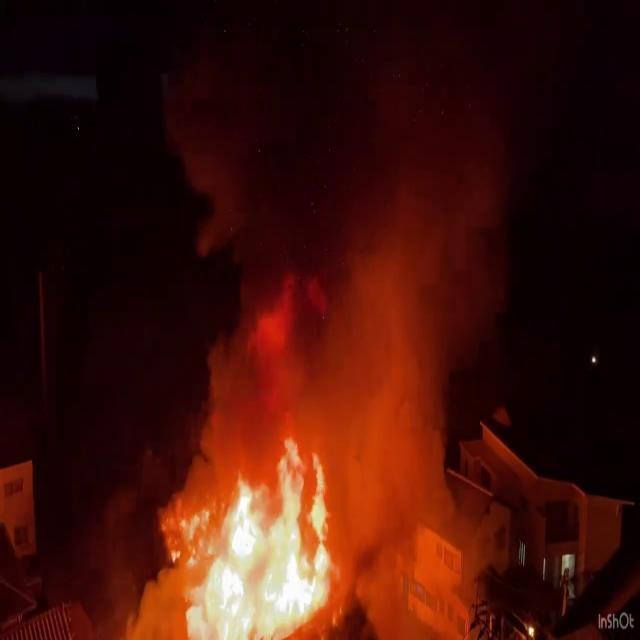Fire: (174, 433, 359, 640)
Smoke: (152, 11, 516, 504)
